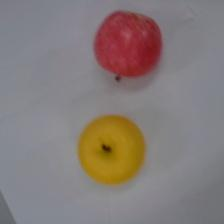red: (92, 8, 163, 80)
yellow: (77, 113, 146, 185)
